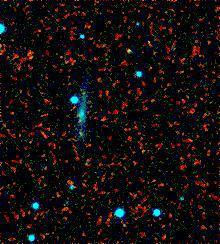star: (60, 122, 90, 152)
